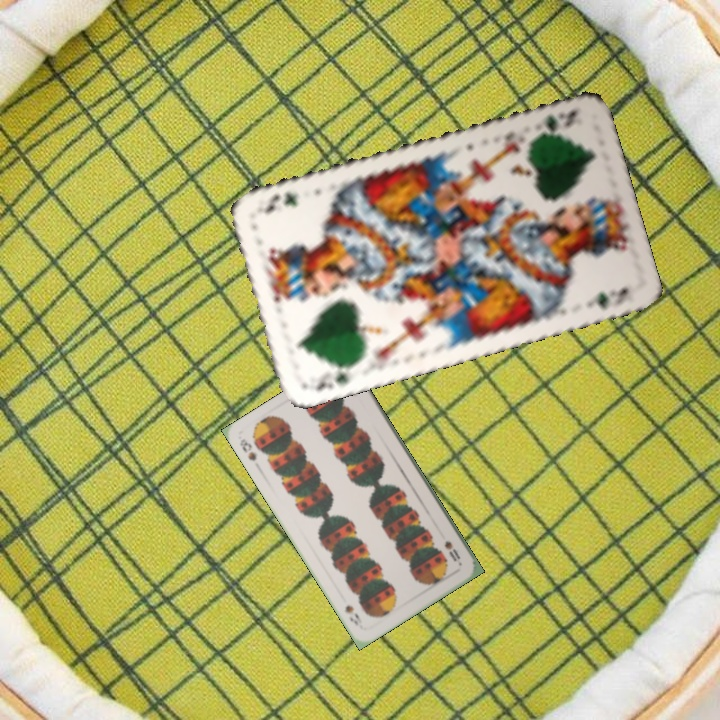GK: (304, 361, 358, 394), (529, 106, 580, 140)
S8: (236, 434, 259, 464), (440, 536, 463, 564)
